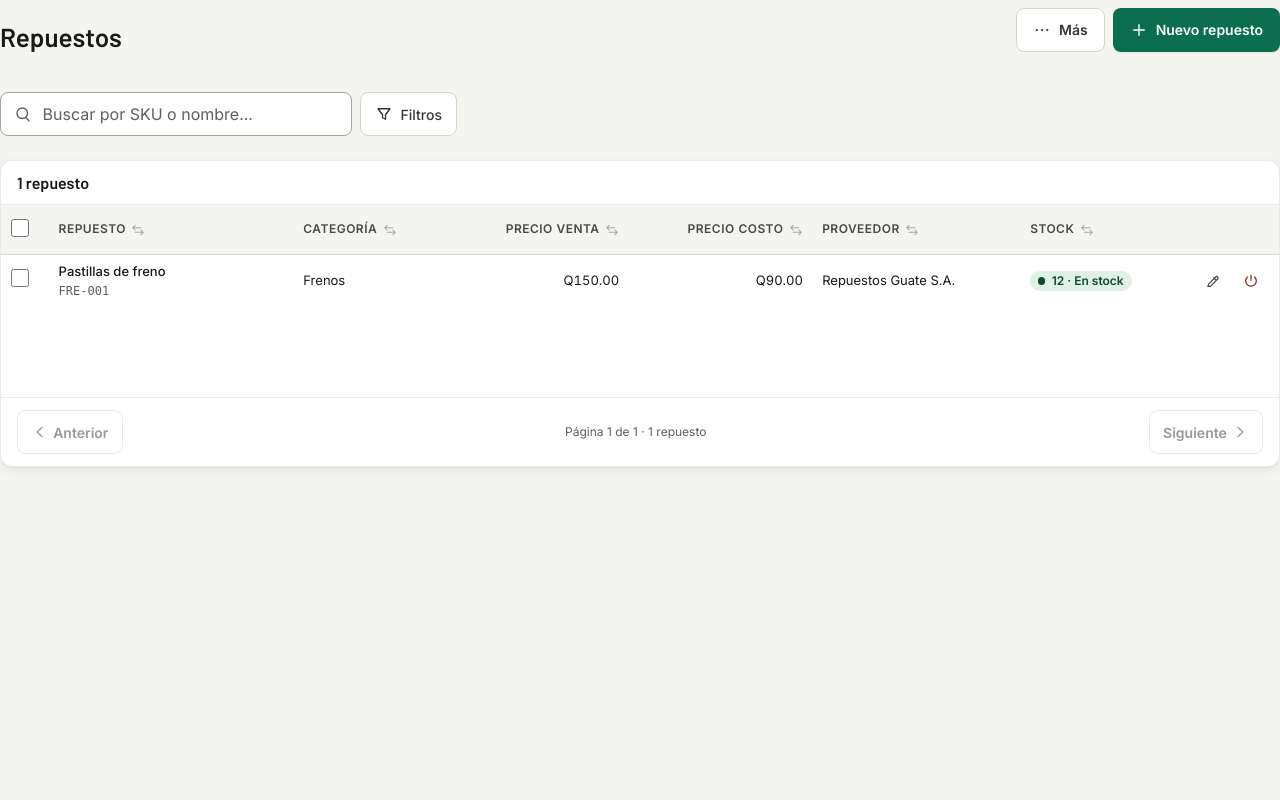
Test case: RepuestosPage › T-047: Administrador ve el botón de carga masiva y abre el modal
The image size is (1280, 800).
expect the text "Pastillas de freno" is shown: met, box [59,262,166,282]
What coordinates should you click on to do the following:
click the button "Más"
I would click on:
 (1060, 30)
Its box is [1016,8,1105,52].
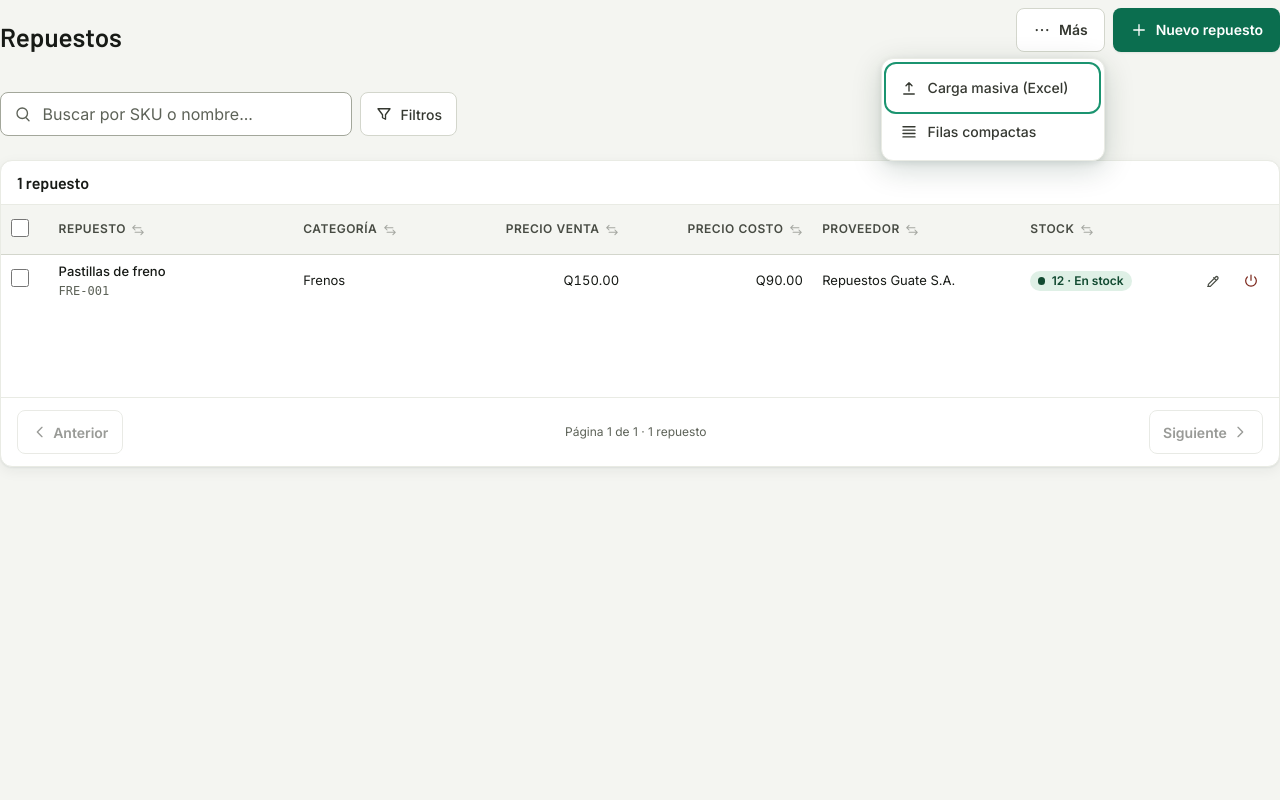
What coordinates should you click on to do the following:
click the menu item "Carga masiva (Excel)"
I would click on:
 (993, 88)
Its box is [888,66,1097,110].
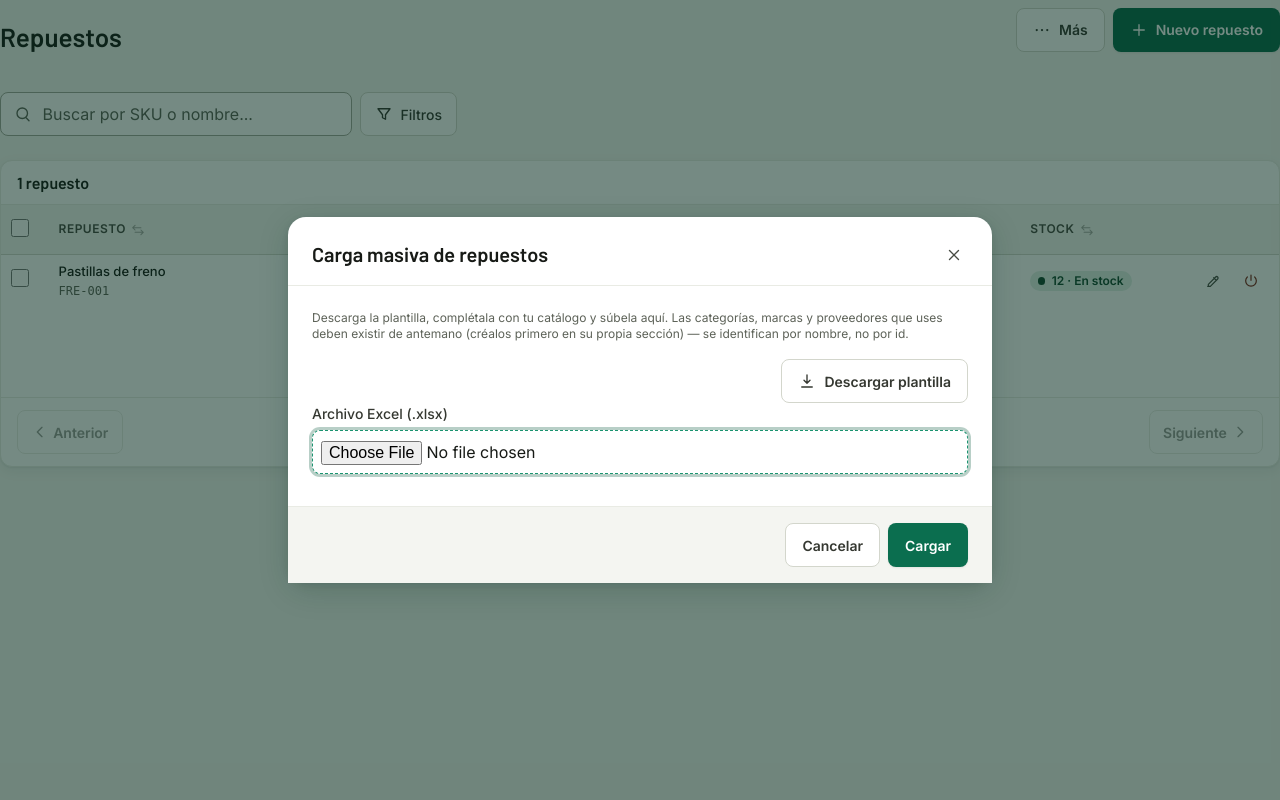
expect the dialog "Carga masiva de repuestos" is shown: met, box [288,217,992,583]
